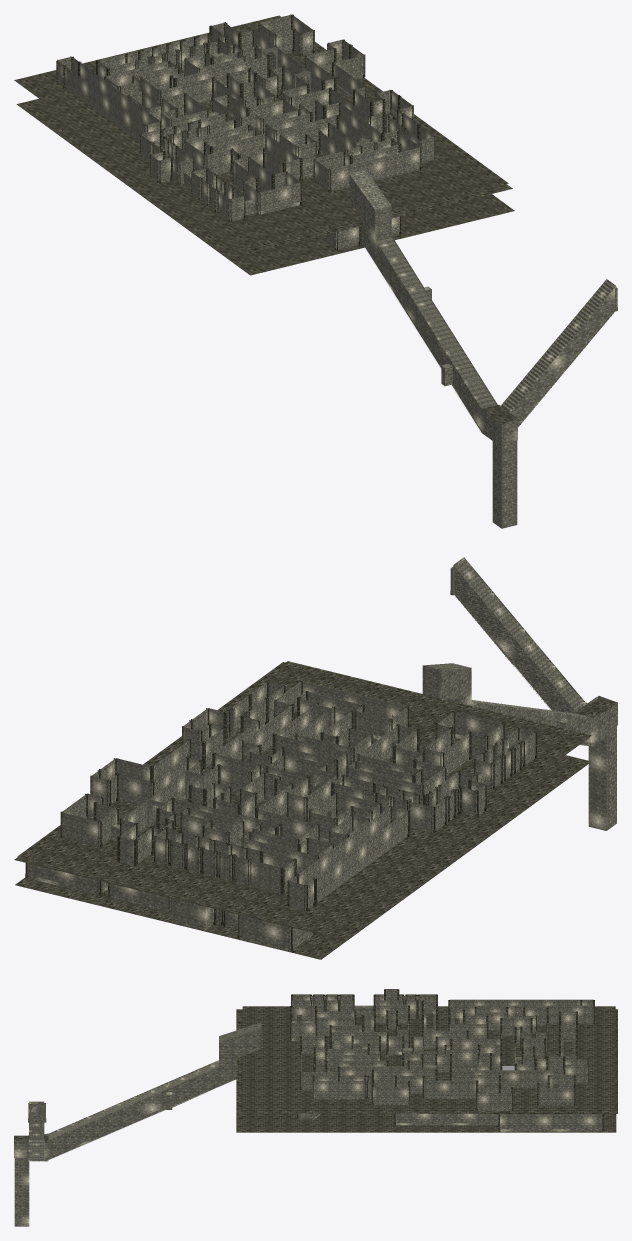
File: 002_zennkiseisaku_meiro2_01_32.fbx
3 renders of one model, top to bottom at view 1: azimuth 30°, elevation 25°; view 2: azimuth 150°, elevation 25°; view 3: azimuth 270°, elevation 25°, orthographic. The views are drawn at different scales.
Visible parts, largest first — view 1: kabe_1kai, yuka_2kai, yuka_1kai, hasira, tenjou_kaidann, tenjou_kaidann2, tenjou_1kai; view 2: kabe_1kai, yuka_2kai, hasira, yuka_1kai, tenjou_kaidann2, tenjou_1kai, saku; view 3: kabe_1kai, yuka_2kai, yuka_1kai, hasira, tenjou_1kai, tenjou_kaidann, kaidann, suro-pu.
Part boxes in pixels (left/top/right/bottom): kabe_1kai: left=57, top=14, right=616, bottom=528; yuka_2kai: left=14, top=15, right=508, bottom=248; yuka_1kai: left=16, top=99, right=514, bottom=275; hasira: left=56, top=14, right=435, bottom=250; tenjou_kaidann: left=375, top=235, right=496, bottom=408; tenjou_kaidann2: left=502, top=281, right=614, bottom=411; tenjou_1kai: left=244, top=114, right=512, bottom=252; kabe_1kai: left=27, top=557, right=617, bottom=951; yuka_2kai: left=17, top=662, right=589, bottom=931; hasira: left=25, top=680, right=537, bottom=951; yuka_1kai: left=15, top=755, right=591, bottom=959; tenjou_kaidann2: left=455, top=560, right=585, bottom=711; tenjou_1kai: left=14, top=661, right=591, bottom=934; saku: left=146, top=567, right=454, bottom=826; kabe_1kai: left=14, top=989, right=602, bottom=1226; yuka_2kai: left=242, top=1006, right=615, bottom=1111; yuka_1kai: left=236, top=1038, right=616, bottom=1132; hasira: left=290, top=989, right=603, bottom=1131; tenjou_1kai: left=236, top=1009, right=617, bottom=1113; tenjou_kaidann: left=48, top=1062, right=218, bottom=1139; kaidann: left=28, top=1035, right=573, bottom=1161; suro-pu: left=29, top=1079, right=320, bottom=1160.
Size of the model in its own units: 972 by 847 by 2341.
